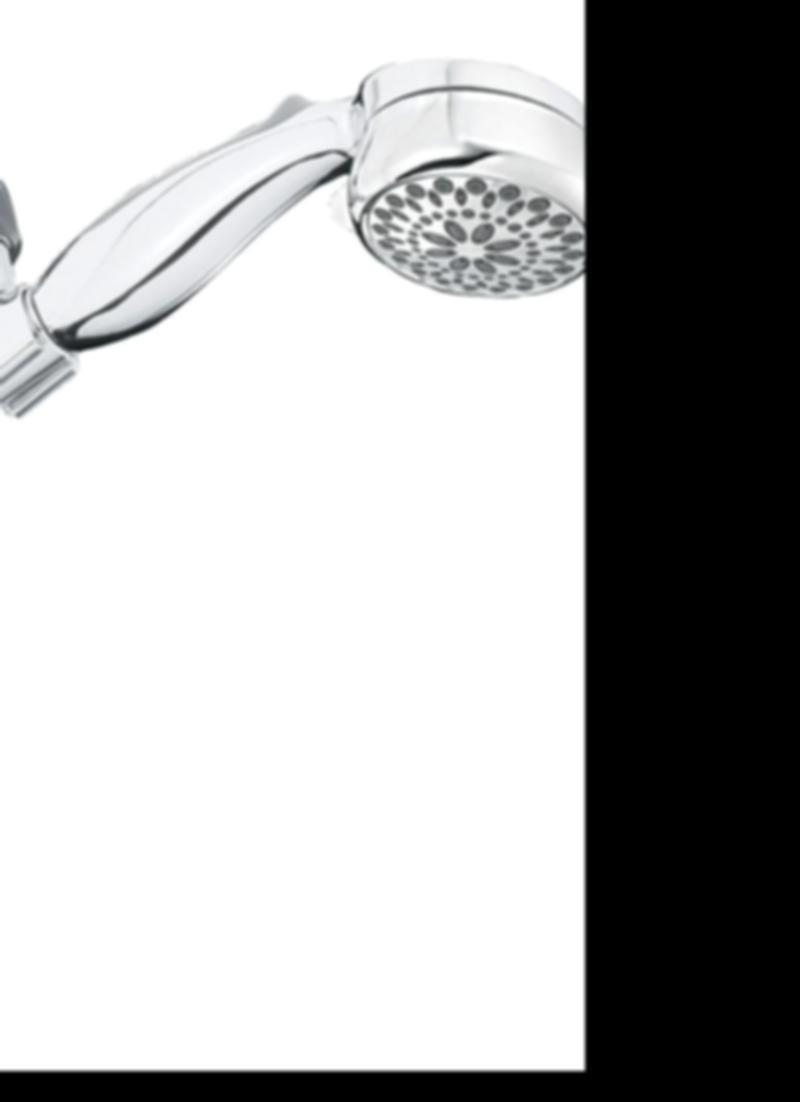Ducha: (0, 72, 584, 746)
